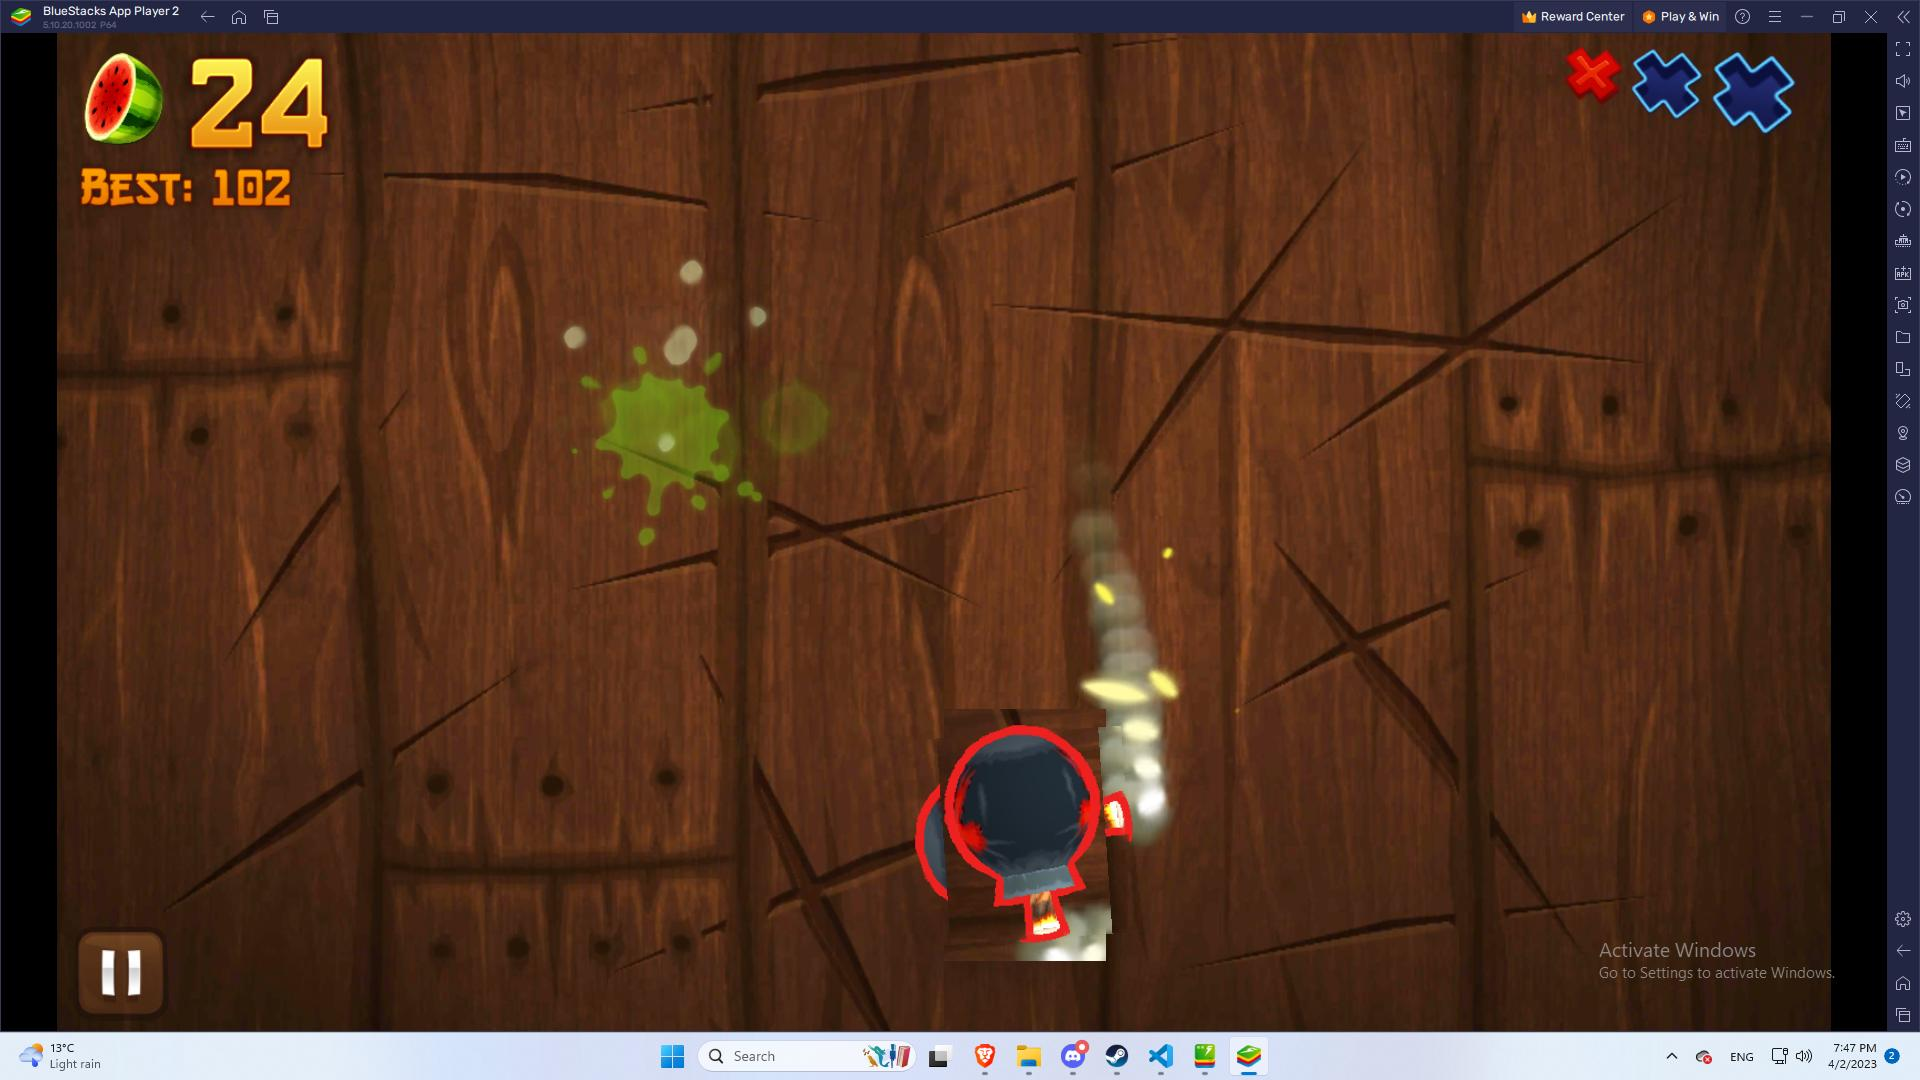bomb: (918, 729, 1133, 943)
